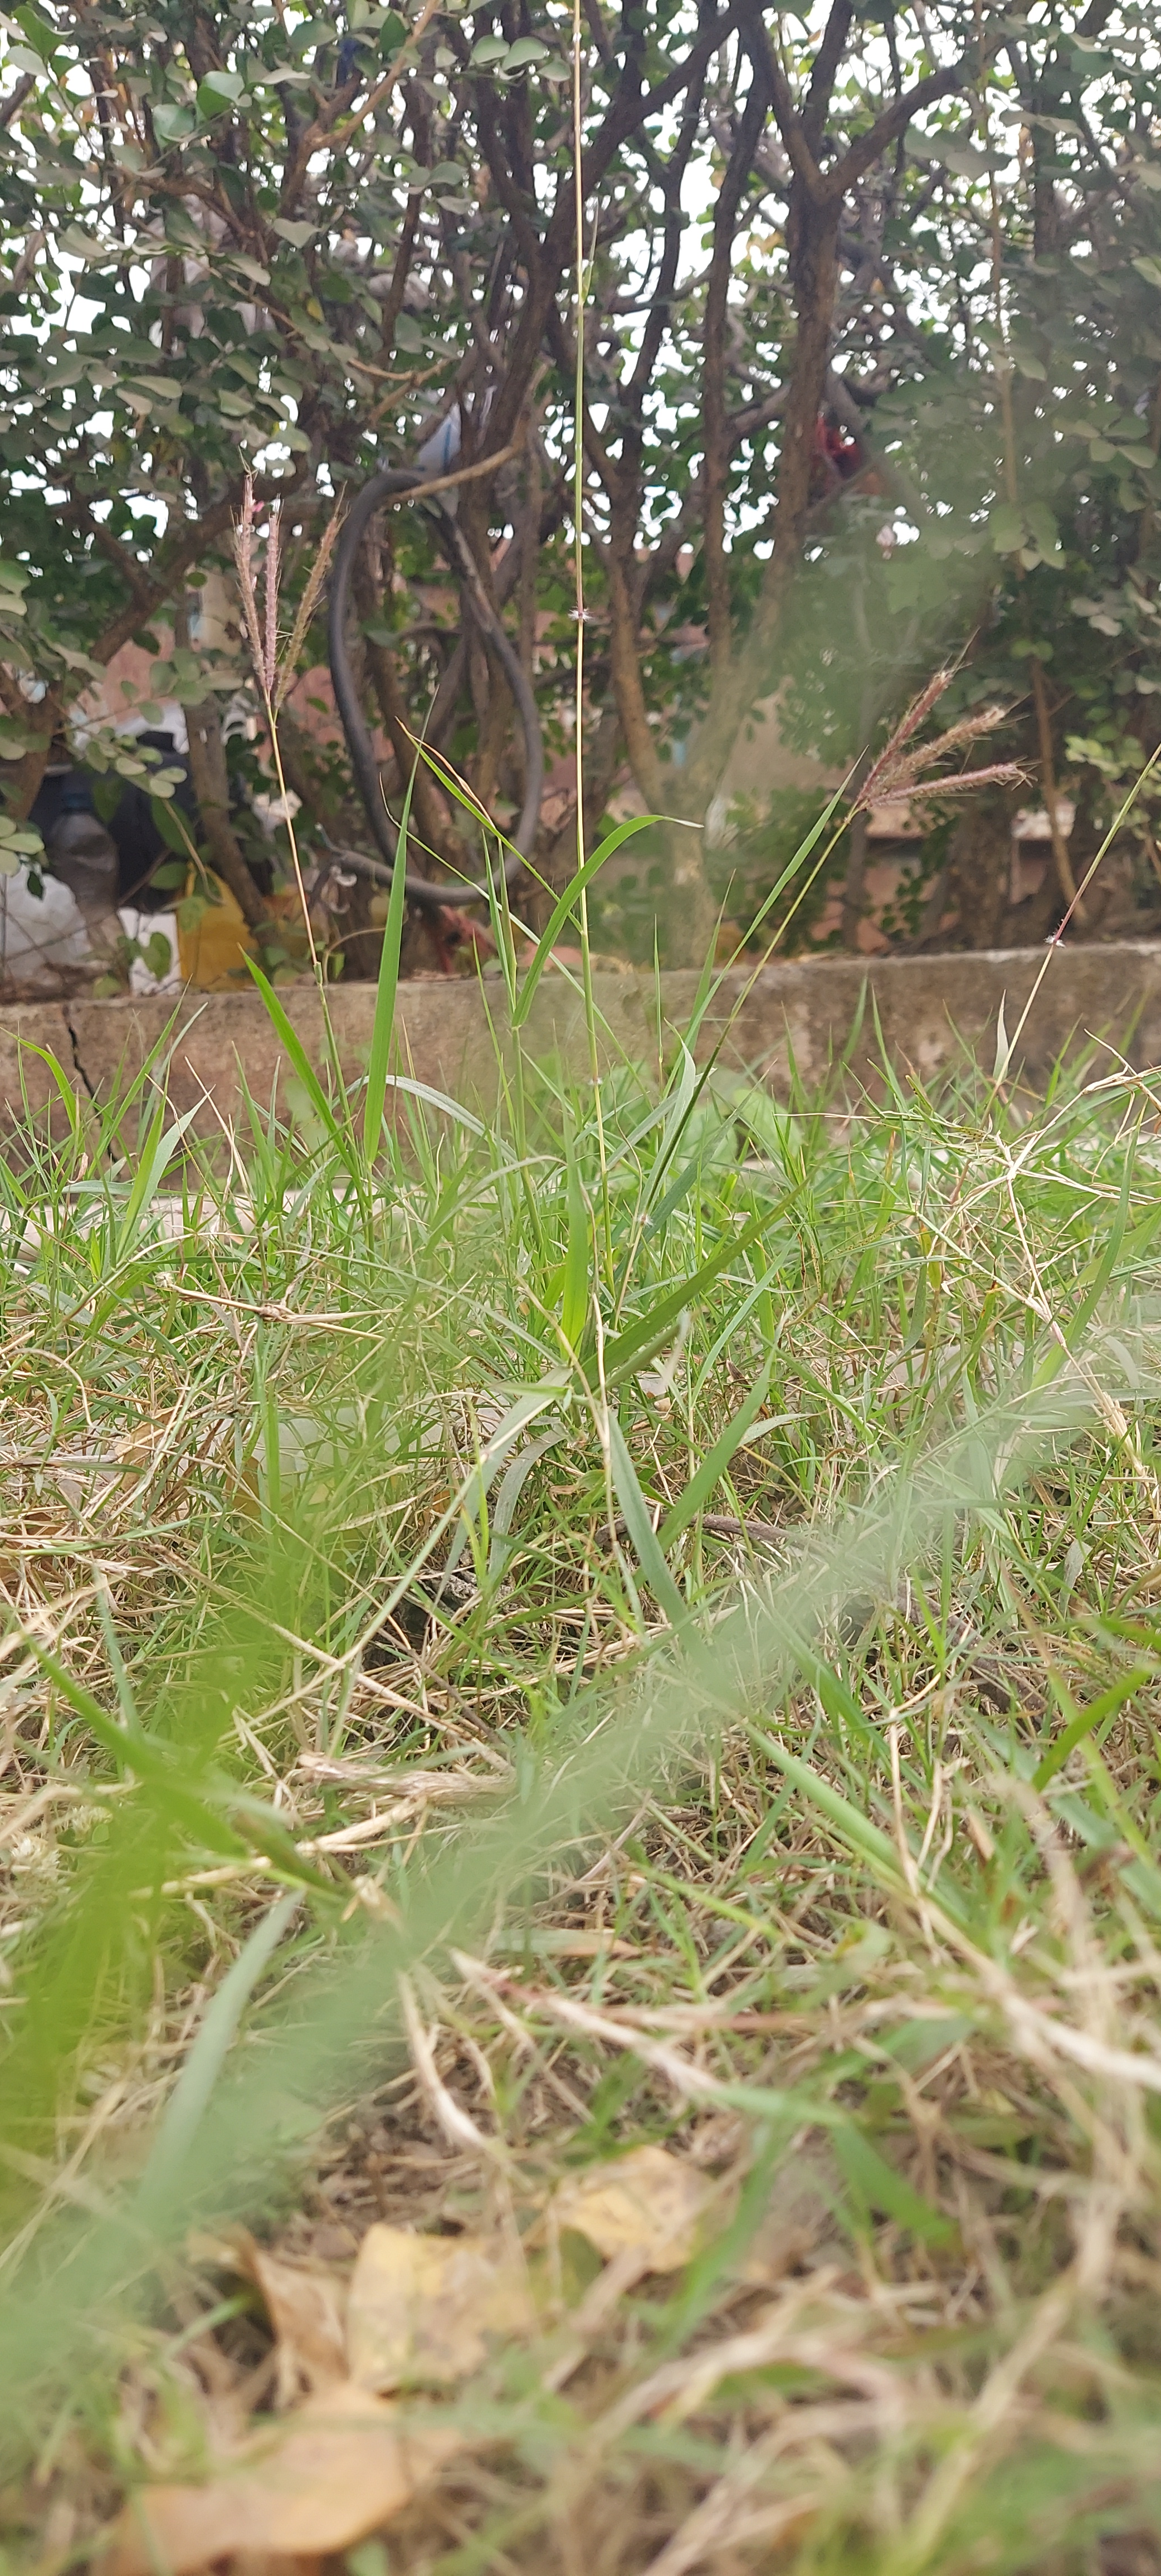Grass: (15, 1255, 1161, 2576)
Wall: (15, 941, 1161, 1132)
